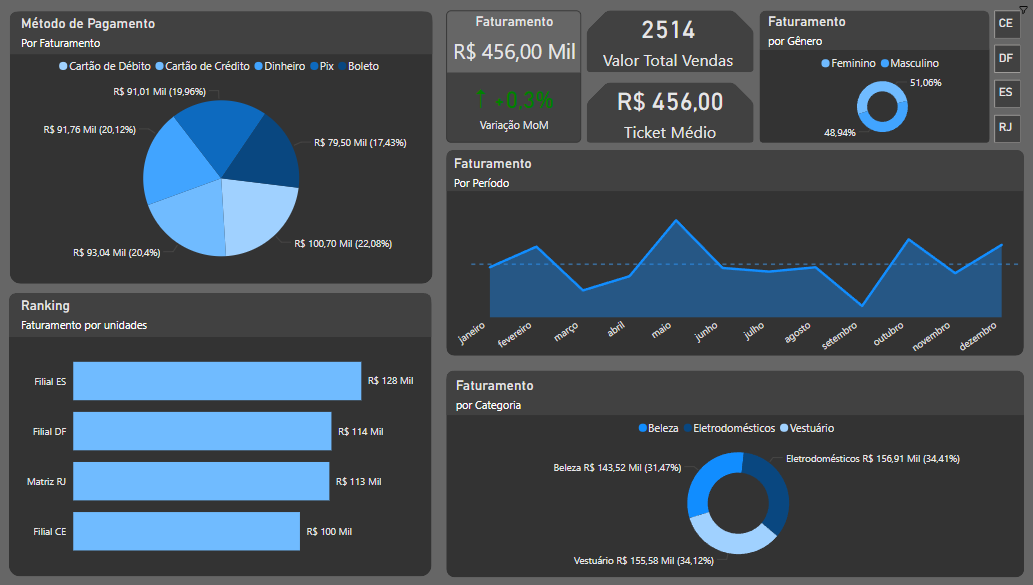

The page's visual inventory and layout, read from the dashboard file:
{"tool":"powerbi","page":{"name":"Página 1","canvas":[1280,720],"ordinal":0},"visuals":[{"type":"shape","box":[553.2,189.9,713.2,254.2],"z":0},{"type":"shape","box":[553.6,190.5,712.1,50.7],"z":1000},{"type":"areaChart","title":"Faturamento","fields":{"Y":["Sum(retail_sales_datasets.Faturamento)"],"Category":["TabelaDatas.Date.Variation.Hierarquia de datas.Mês"]},"box":[557.4,196.5,708.8,265],"z":2000},{"type":"shape","box":[13.3,367,522,350],"z":3000},{"type":"shape","box":[14.3,19.1,522.1,336.4],"z":4000},{"type":"card","title":"Faturamento","fields":{"Values":["retail_sales_datasets.Variação Percentual Mês"]},"box":[553.5,17.4,166.2,163.8],"z":5000},{"type":"shape","box":[13.5,367.2,521.9,53.7],"z":6000},{"type":"clusteredBarChart","title":"Ranking","fields":{"Y":["Sum(retail_sales_datasets.Faturamento)"],"Category":["codigo_lojas.Unidade"]},"box":[23.5,375.3,502.5,341.7],"z":7000},{"type":"shape","box":[14.3,19.2,522.2,53.4],"z":8000},{"type":"pieChart","title":"Método de Pagamento","fields":{"Category":["retail_sales_datasets.Metodo_Pagamento"],"Y":["Sum(retail_sales_datasets.Faturamento)"]},"box":[23.3,27,503,329],"z":9000},{"type":"shape","box":[726.2,17.6,206.2,76.2],"z":10000},{"type":"shape","box":[553.4,462.9,713.6,254.5],"z":11000},{"type":"shape","box":[553.4,462,712.7,55.5],"z":12000},{"type":"donutChart","title":"Faturamento","fields":{"Series":["retail_sales_datasets.Categoria"],"Y":["Sum(retail_sales_datasets.Faturamento)"]},"box":[560.1,471.2,706.7,240],"z":13000},{"type":"shape","box":[726.3,106.5,206.2,74.8],"z":14000},{"type":"card","fields":{"Values":["Avg(retail_sales_datasets.Faturamento)"]},"box":[742,92,174.2,96.5],"z":15000},{"type":"card","fields":{"Values":["retail_sales_datasets.Total Vendas"]},"box":[723.5,12,206.7,80],"z":16000},{"type":"advancedSlicerVisual","fields":{"Values":["codigo_lojas.UF"]},"box":[1224.3,12,43.3,175],"z":17000},{"type":"shape","box":[939.9,17.6,284.4,64.4],"z":17250},{"type":"shape","box":[939.9,62,284.4,119.4],"z":17500},{"type":"donutChart","title":"Faturamento","fields":{"Y":["Sum(retail_sales_datasets.Faturamento)"],"Category":["retail_sales_datasets.Gênero"]},"box":[945,19.3,292,162],"z":18000},{"type":"image","box":[1253.7,5.8,26.3,23.2],"z":18001}]}

Visuals, with their boxes in screenshot pixels (x1, y1, x2, y2), scaled from the page's 1280x720 canvas onto the 1033x585 screenshot:
shape: 446,154,1022,361
shape: 447,155,1021,196
"Faturamento" areaChart: 450,160,1022,375
shape: 11,298,432,583
shape: 12,16,433,289
"Faturamento" card: 447,14,581,147
shape: 11,298,432,342
"Ranking" clusteredBarChart: 19,305,424,583
shape: 12,16,433,59
"Método de Pagamento" pieChart: 19,22,425,289
shape: 586,14,752,76
shape: 447,376,1023,583
shape: 447,375,1022,420
"Faturamento" donutChart: 452,383,1022,578
shape: 586,87,753,147
card - Avg(retail_sales_datasets.Faturamento): 599,75,739,153
card - retail_sales_datasets.Total Vendas: 584,10,751,75
advancedSlicerVisual - codigo_lojas.UF: 988,10,1023,152
shape: 759,14,988,67
shape: 759,50,988,147
"Faturamento" donutChart: 763,16,998,147
image: 1012,5,1032,24
